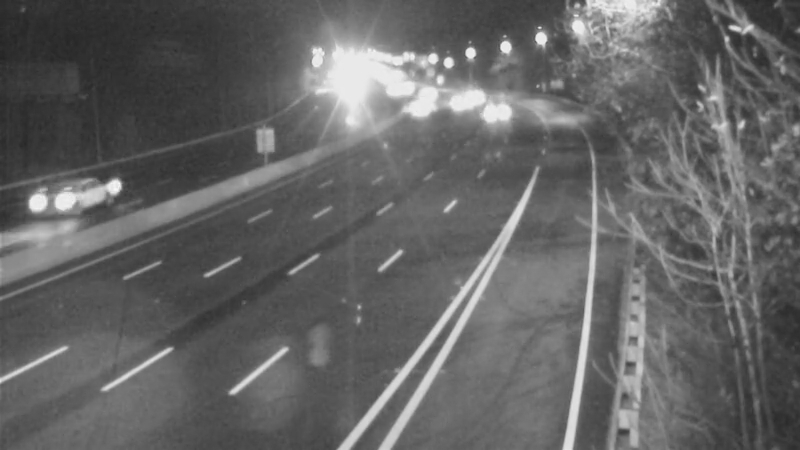vehicle: (24, 164, 104, 244), (369, 64, 419, 114), (401, 68, 451, 118), (450, 70, 500, 120), (431, 74, 481, 124), (397, 83, 447, 133), (467, 85, 517, 135)
